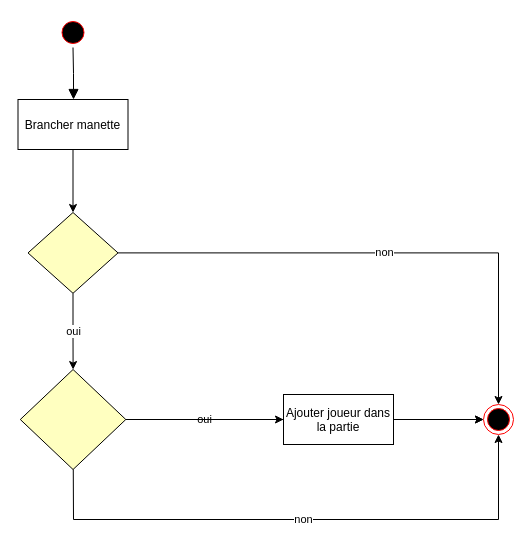
Image size: 531x545. Some labels were removed from this diagram. Here are the shapes that lost their labels. From the top down, the box of each, then its label:
(27, 212, 118, 293): donjon lancé
(19, 368, 126, 470): salle en cours = 1ère salle
